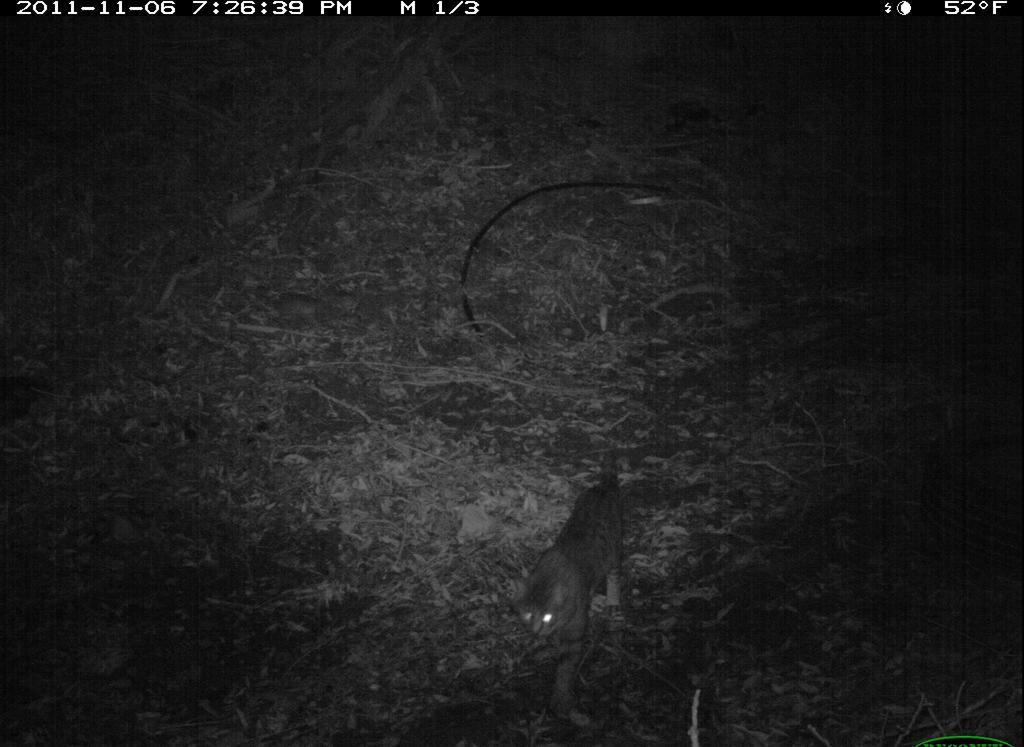cat: (519, 438, 658, 712)
